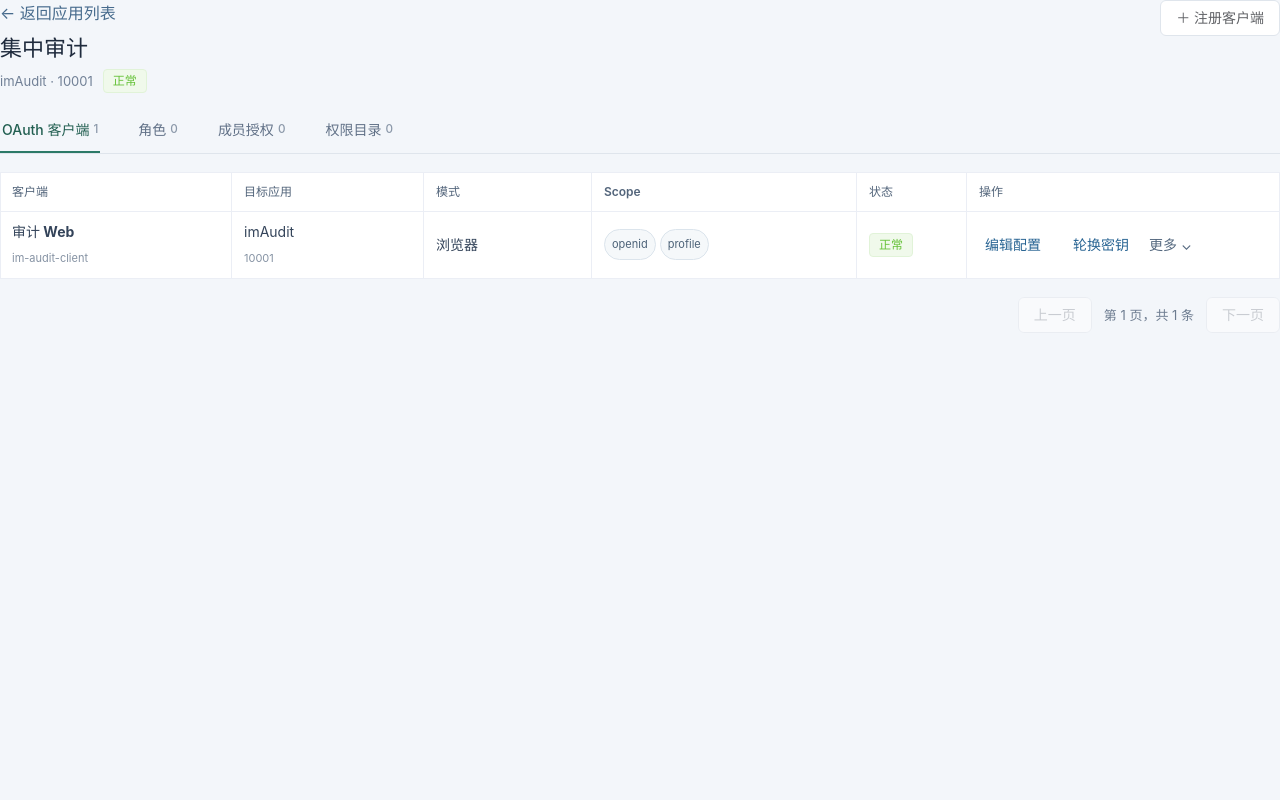
Test: application detail workspace › retains client form input when registration fails
Click the button with test id "register-client".
click(1220, 18)  # box x1=1160 y1=0 x2=1279 y2=36
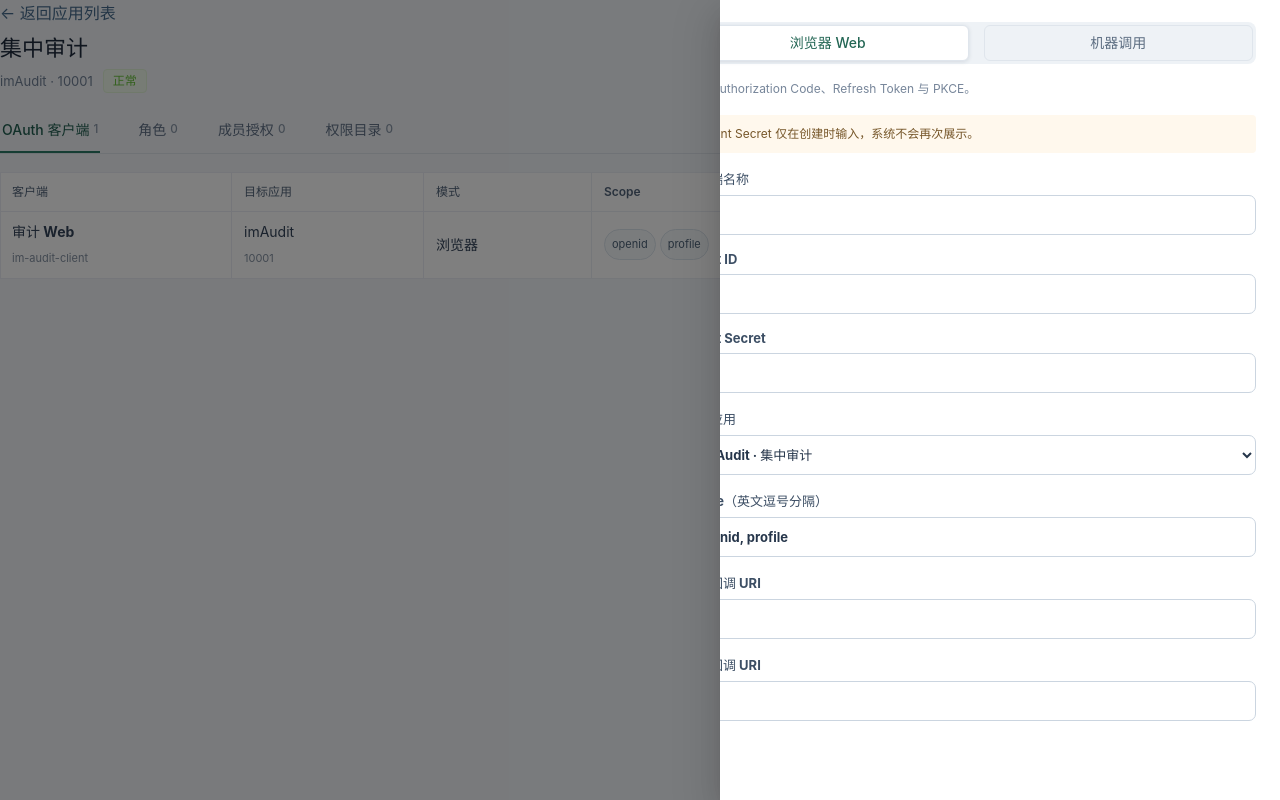
Type "重复客户端" into the field with test id "client-name".
click(970, 215); type("重复客户端")  # box x1=684 y1=195 x2=1256 y2=235
Type "duplicate-client" into the field with test id "client-id".
click(970, 294); type("duplicate-client")  # box x1=684 y1=274 x2=1256 y2=314
Type "secret" into the password field with test id "client-secret".
click(970, 373); type("secret")  # box x1=684 y1=353 x2=1256 y2=393
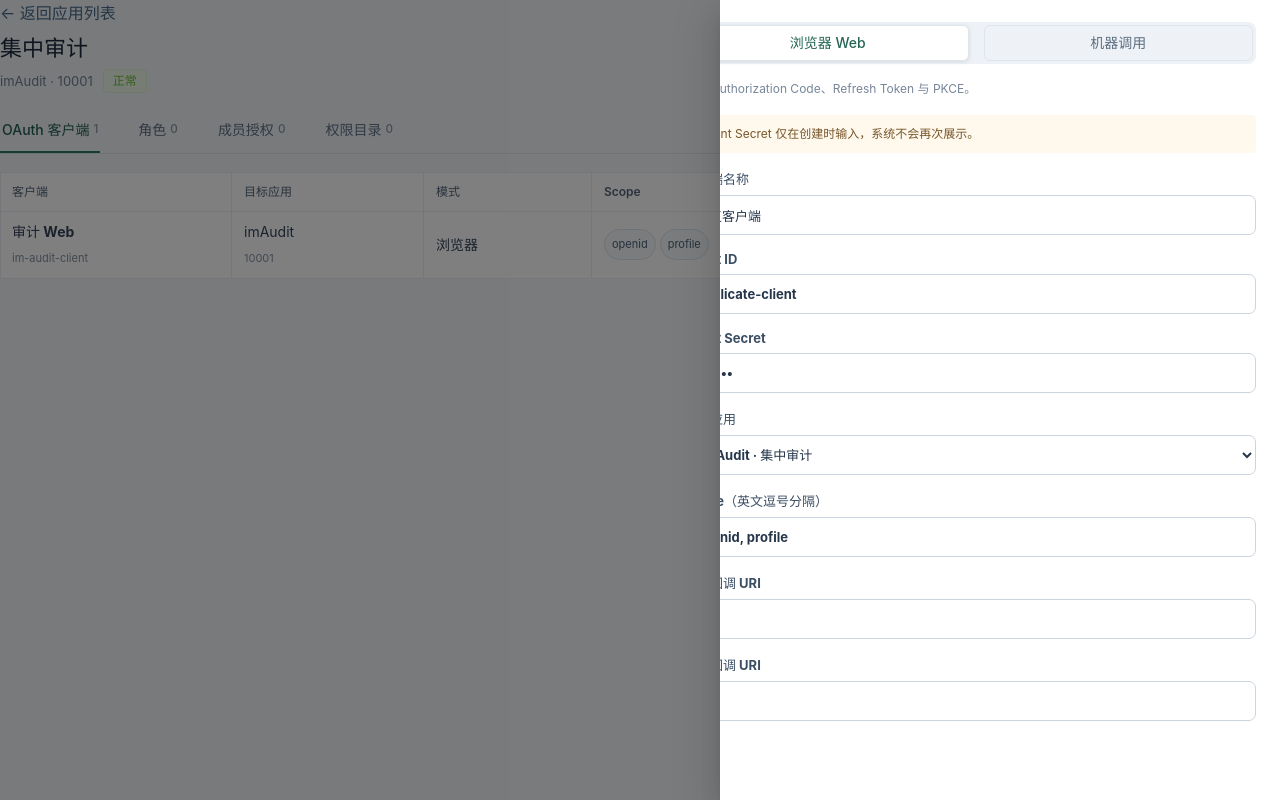
Replace the text in the field with test id "client-scopes" with "openid" at (970, 537), box x1=684 y1=517 x2=1256 y2=557
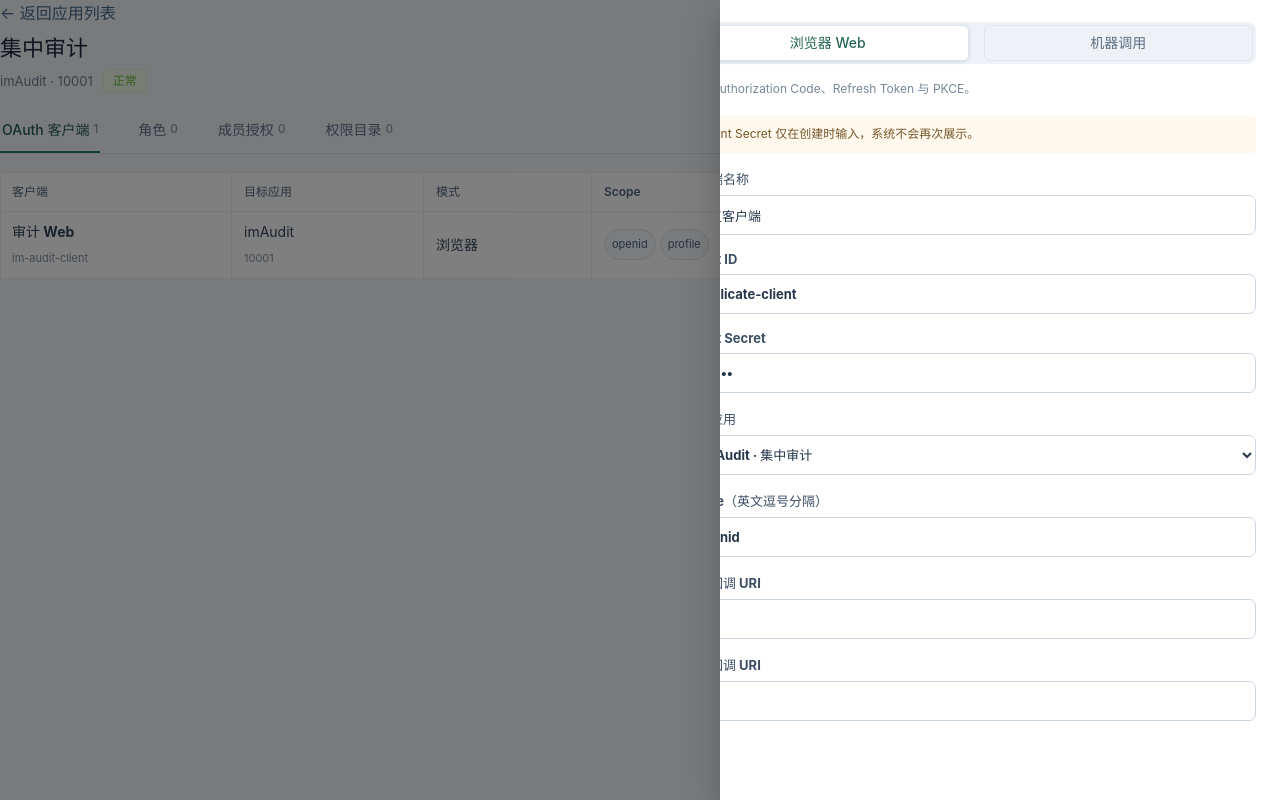
Type "http://localhost/callback" into the field with test id "client-redirect-uri".
click(970, 619); type("http://localhost/callback")  # box x1=684 y1=599 x2=1256 y2=639
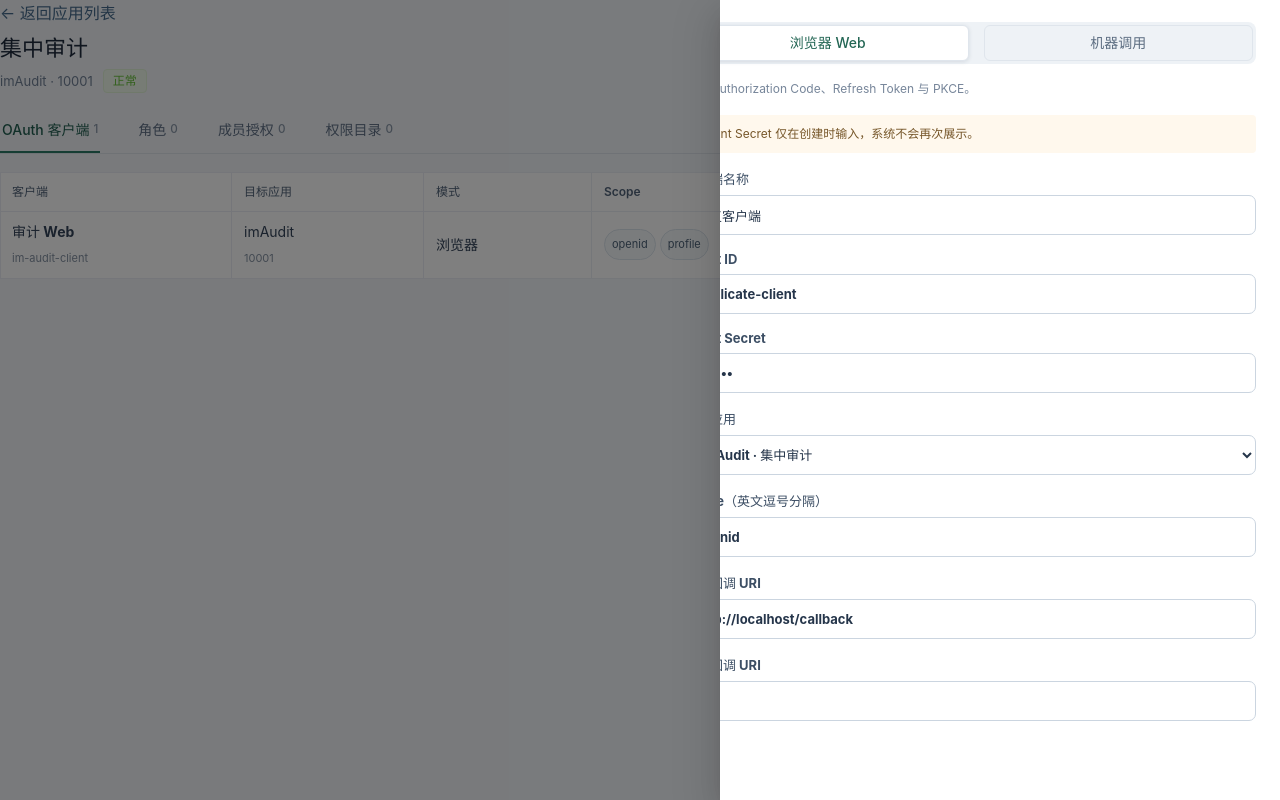
Type "http://localhost/" into the field with test id "client-logout-uri".
click(970, 701); type("http://localhost/")  # box x1=684 y1=681 x2=1256 y2=721
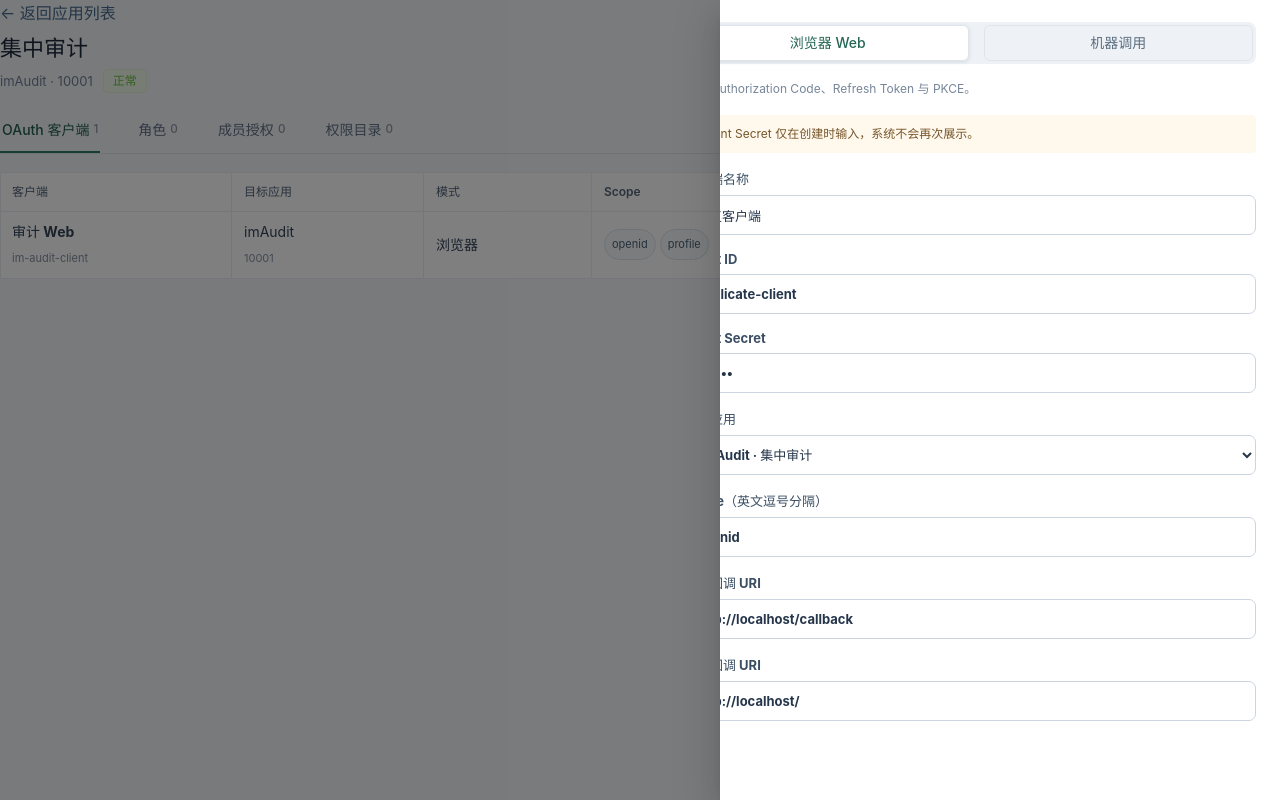
Submit the form with test id "client-form", box x1=684 y1=22 x2=1256 y2=721
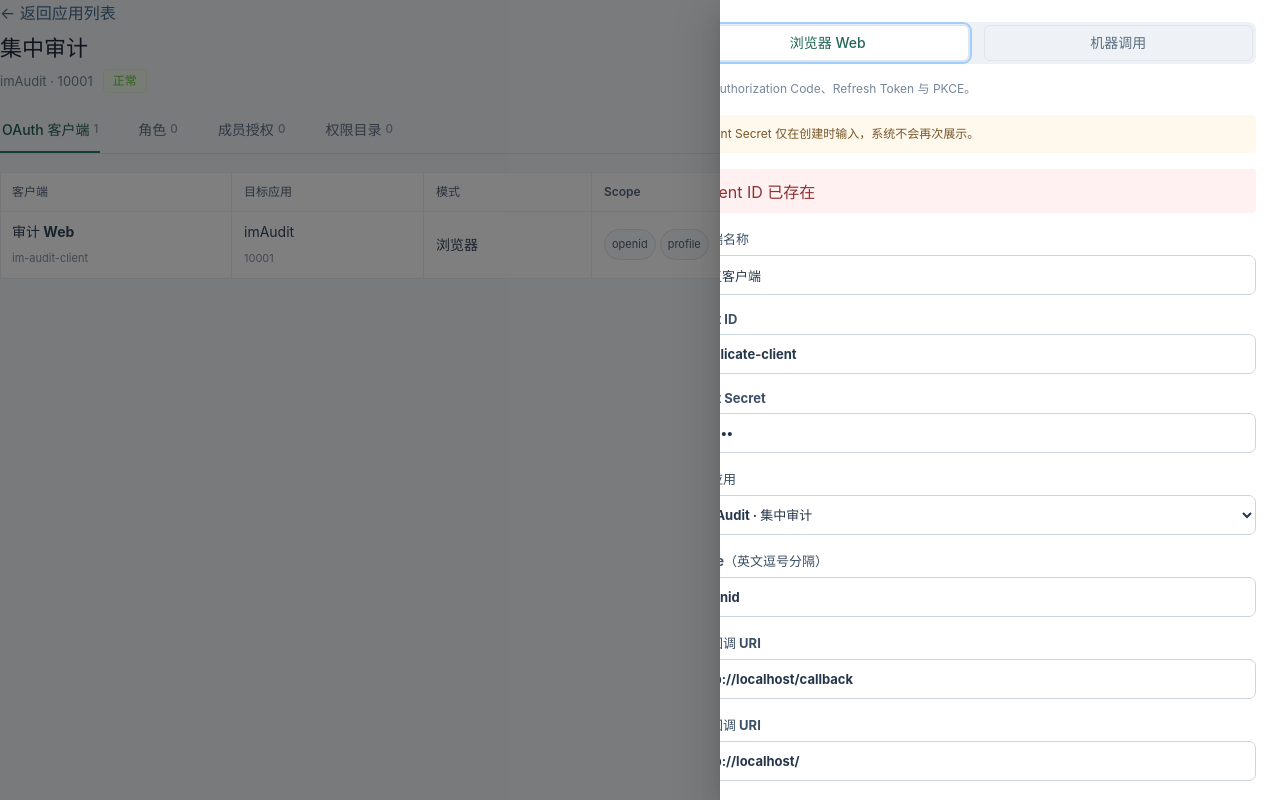
Check: the text "Client ID 已存在" is shown, box x1=720 y1=169 x2=1256 y2=213
